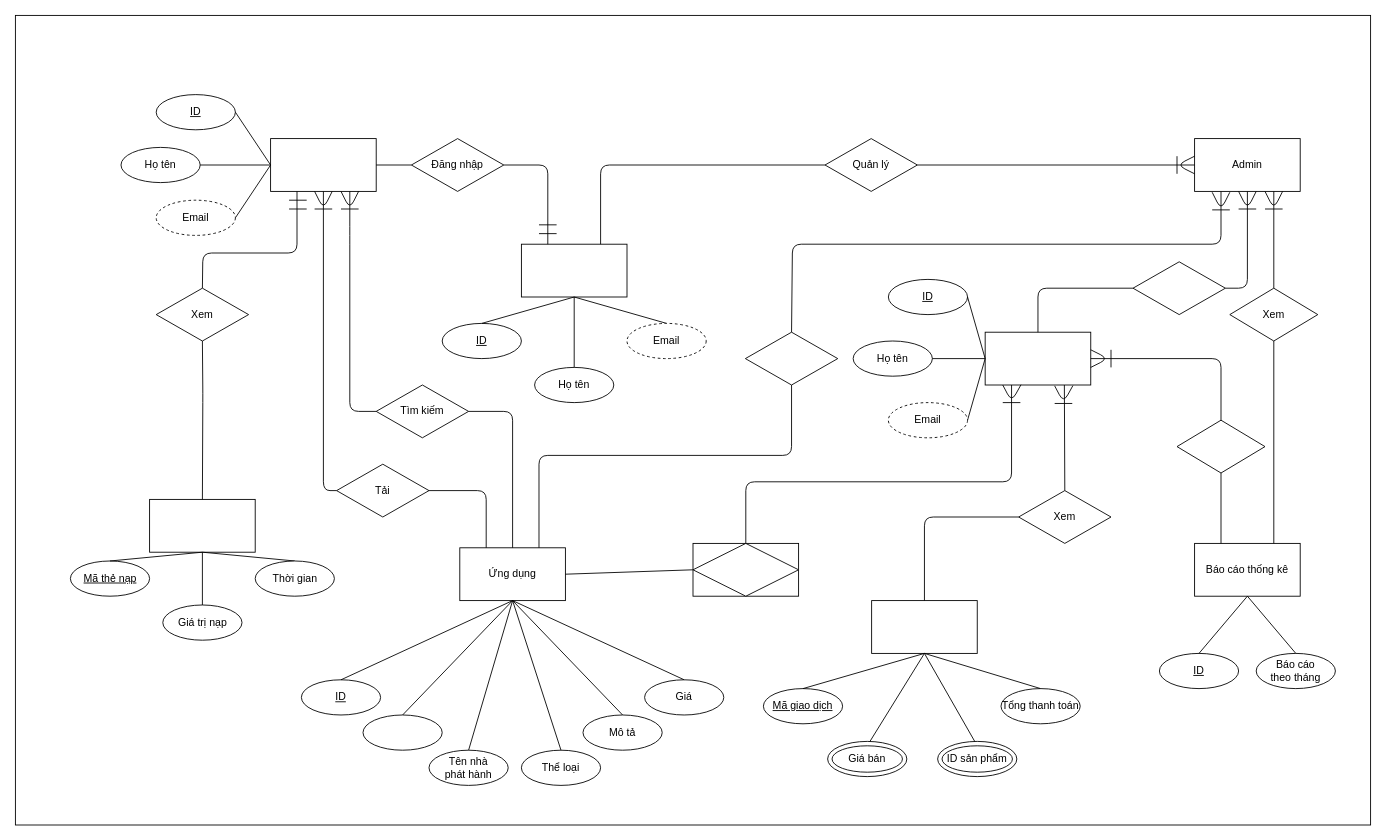
Image size: 1386x840. Some labels were removed from this diagram. Here are the shapes that lost their labels. From the top down, the centre of each, then its label:
(x=323, y=164): Khách hàng
(x=574, y=270): Tài khoản
(x=1178, y=288): Sở hữu
(x=791, y=358): Duyệt
(x=1037, y=358): Nhà phát hành
(x=1220, y=446): Thực hiện
(x=202, y=525): Lịch sử nạp và giao dịch
(x=745, y=569): Quản lý ứng dụng
(x=924, y=626): Lịch sử ứng dụng
(x=402, y=732): Tên ứng dụng
